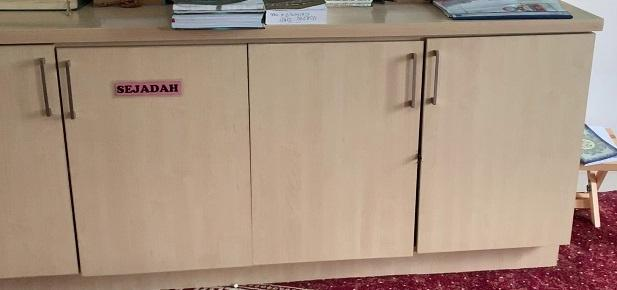cabinet_door: (69, 46, 251, 273), (251, 44, 416, 260), (416, 38, 575, 249), (0, 47, 66, 277)
handle: (35, 55, 54, 120), (62, 58, 79, 121), (428, 49, 441, 108), (406, 52, 419, 110)
